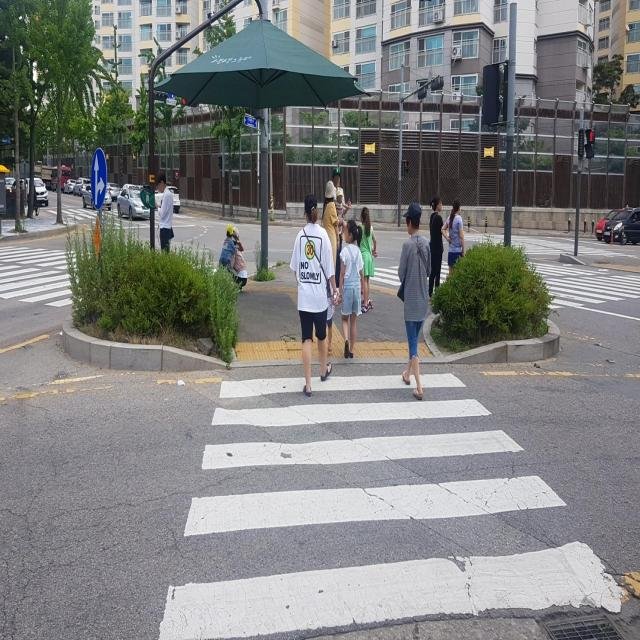빨간불: (584, 124, 598, 162)
횡단보도: (155, 363, 623, 640), (362, 245, 640, 318), (0, 239, 96, 314)
